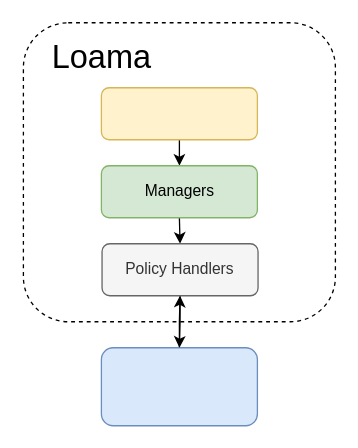
The diagram is 358 pixels wide and 448 high, and some of its shapes have lost their labels. Each missing label, with the centre of its shape:
"Controller" belongs at point (178, 113).
"UMA AS-server" belongs at point (178, 386).
